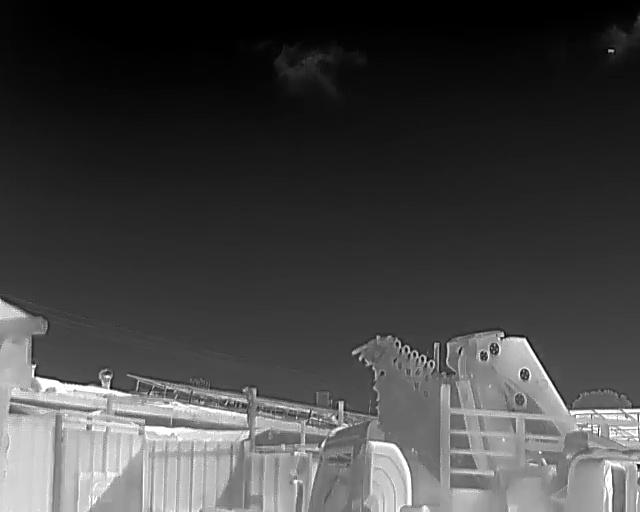fpv-drone: (607, 47, 615, 54)
